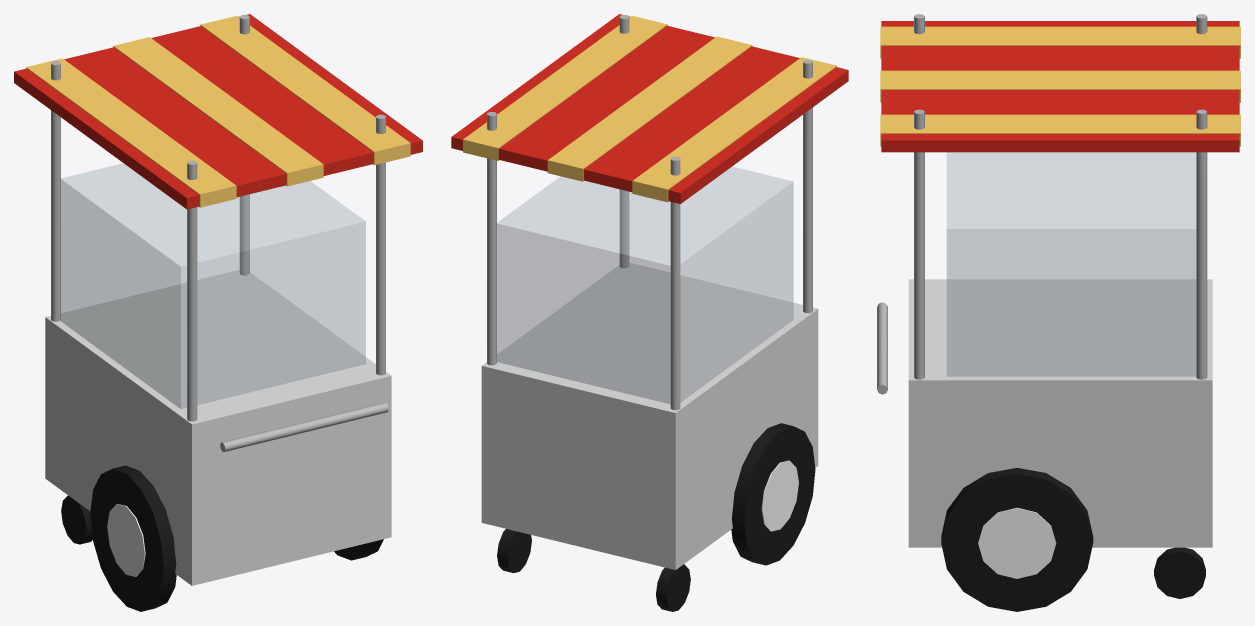
The model's file is foodcart.glb.
3 views of the same model, side by side, from view 1: azimuth 30°, elevation 25°; view 2: azimuth 150°, elevation 25°; view 3: azimuth 270°, elevation 25° (orthographic). The views are drawn at different scales.
Visible parts, largest first — view 1: foodcart; view 2: foodcart; view 3: foodcart.
Boxes of the visible parts, x1,y1,x2,y2 form: foodcart: (14, 14, 422, 611); foodcart: (451, 14, 848, 611); foodcart: (877, 14, 1240, 611).
Bounding box in the file's own units: 1.3 × 2.5 × 1.67.
